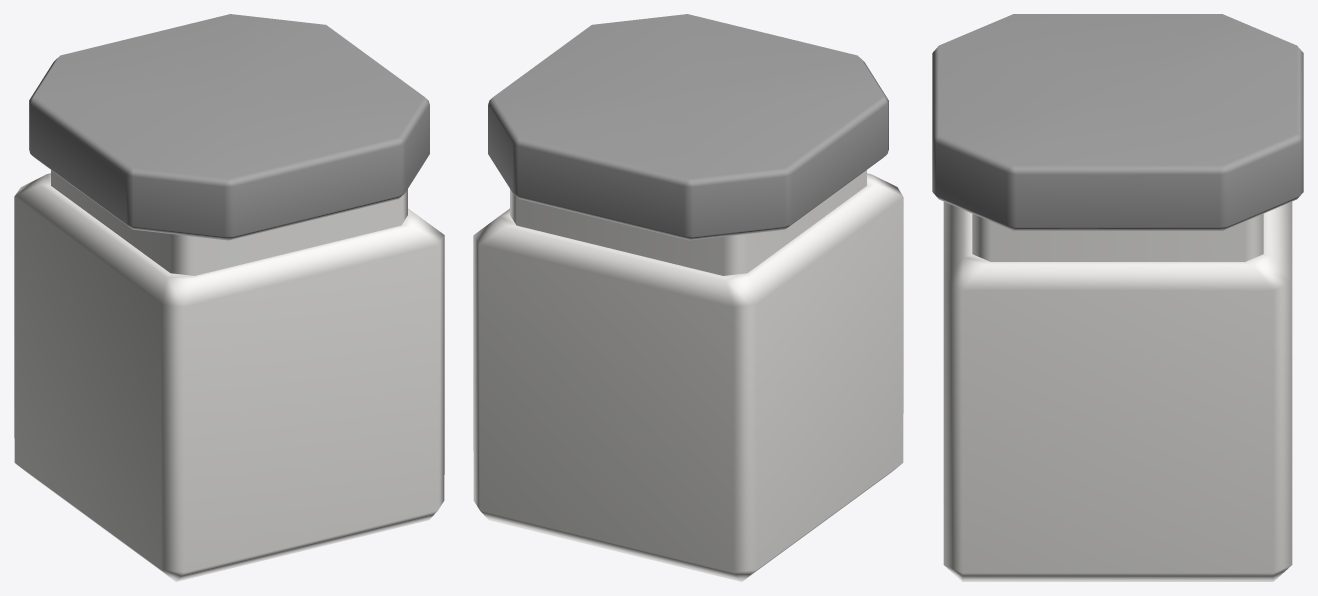
File: Bottle_4.glb
3 renders of one model, left to right at view 1: azimuth 30°, elevation 25°; view 2: azimuth 150°, elevation 25°; view 3: azimuth 270°, elevation 25°, orthographic. The views are drawn at different scales.
Visible parts, largest first — view 1: Bottle_4; view 2: Bottle_4; view 3: Bottle_4.
Part boxes in pixels (box(x1,y1,x2,y2)): Bottle_4: box(14, 14, 444, 581); Bottle_4: box(473, 14, 903, 581); Bottle_4: box(932, 14, 1303, 581).
Size of the model in its own units: 0.1722 by 0.2183 by 0.1722.
2 materials, 2 textured.
